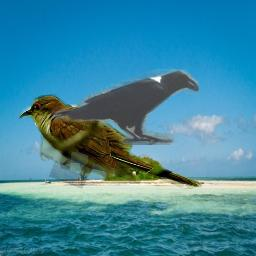Crow: (51, 69, 199, 145)
Cuckoo: (19, 94, 202, 189)
